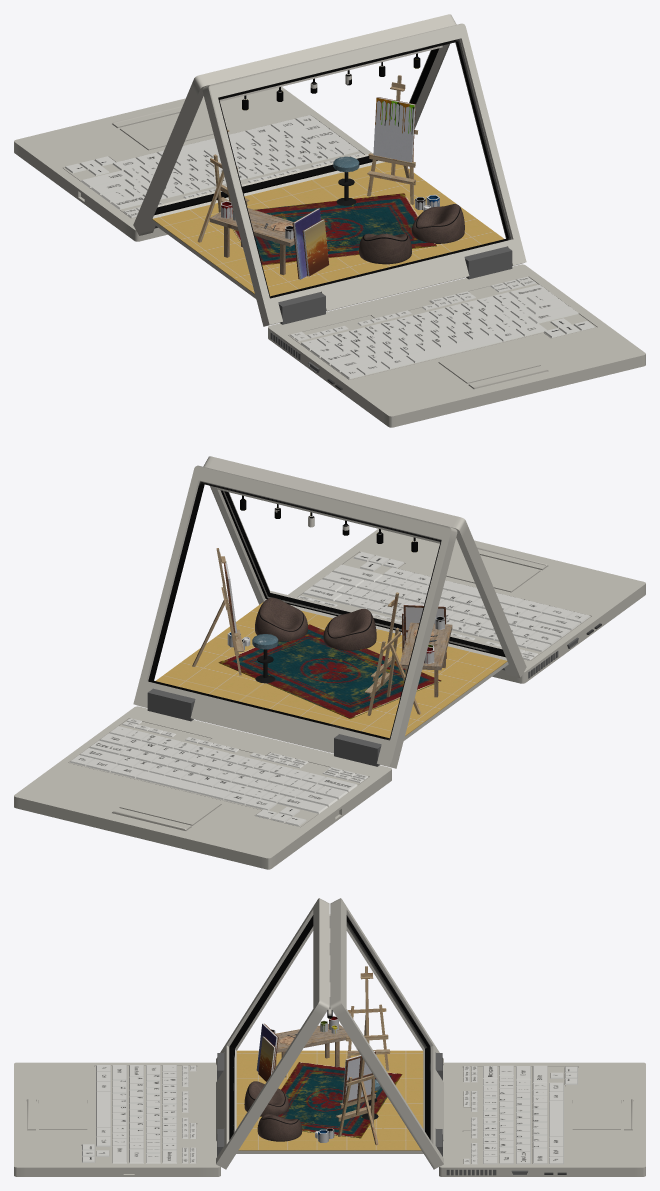
Rendered from laptop-scene.gltf.
3 views of the same model, one above another, from view 1: azimuth 30°, elevation 25°; view 2: azimuth 150°, elevation 25°; view 3: azimuth 270°, elevation 25° (orthographic). The views are drawn at different scales.
Visible parts, largest first — view 1: Cube.002, Cube.011, Cube.004, Cube.030, Cube.029, Cube.027, Sphere.001, Cube.016, Cube.026, Cube.020, Cylinder, Cylinder.008 (+1 smaller); view 2: Cube.002, Cube.011, Cube.004, Cube.030, Cube.029, Sphere.001, Cube.026, Cube.016, Cube.020, Cube.027, Cylinder, Cube.018; view 3: Cube.002, Cube.004, Cube.011, Cube.030, Cube.029, Cube.026, Sphere.001, Cube.027, Cube.020, Cube.005, Cube.016, Cylinder.008.
Part boxes in pixels (left/top/right/bottom): Cube.002: left=14, top=86, right=645, bottom=427; Cube.011: left=133, top=14, right=526, bottom=326; Cube.004: left=65, top=115, right=594, bottom=379; Cube.030: left=152, top=162, right=503, bottom=296; Cube.029: left=233, top=193, right=436, bottom=265; Cube.027: left=292, top=97, right=415, bottom=279; Sphere.001: left=359, top=204, right=464, bottom=264; Cube.016: left=155, top=226, right=512, bottom=324; Cube.026: left=197, top=75, right=418, bottom=242; Cube.020: left=209, top=207, right=294, bottom=275; Cylinder: left=333, top=156, right=359, bottom=205; Cylinder.008: left=221, top=195, right=439, bottom=239; Cube.002: left=14, top=529, right=645, bottom=869; Cube.011: left=133, top=456, right=526, bottom=768; Cube.004: left=70, top=551, right=589, bottom=826; Cube.030: left=156, top=602, right=507, bottom=738; Cube.029: left=218, top=624, right=441, bottom=718; Sphere.001: left=255, top=597, right=376, bottom=650; Cube.026: left=192, top=548, right=421, bottom=715; Cube.016: left=147, top=668, right=504, bottom=766; Cube.020: left=400, top=622, right=452, bottom=697; Cube.027: left=224, top=561, right=446, bottom=658; Cylinder: left=252, top=634, right=278, bottom=683; Cube.018: left=217, top=487, right=440, bottom=543; Cube.002: left=14, top=1062, right=645, bottom=1176; Cube.004: left=82, top=1065, right=577, bottom=1164; Cube.011: left=216, top=898, right=443, bottom=1169; Cube.030: left=236, top=1050, right=423, bottom=1150; Cube.029: left=257, top=1062, right=402, bottom=1138; Cube.026: left=336, top=966, right=390, bottom=1145; Sphere.001: left=244, top=1081, right=302, bottom=1141; Cube.027: left=256, top=1023, right=375, bottom=1103; Cube.020: left=275, top=1024, right=348, bottom=1077; Cube.005: left=236, top=1150, right=423, bottom=1153; Cube.016: left=217, top=1053, right=442, bottom=1156; Cylinder.008: left=271, top=1016, right=338, bottom=1142.
Size of the model in its own units: 122 by 93.31 by 305.
21 materials, 21 textured.
